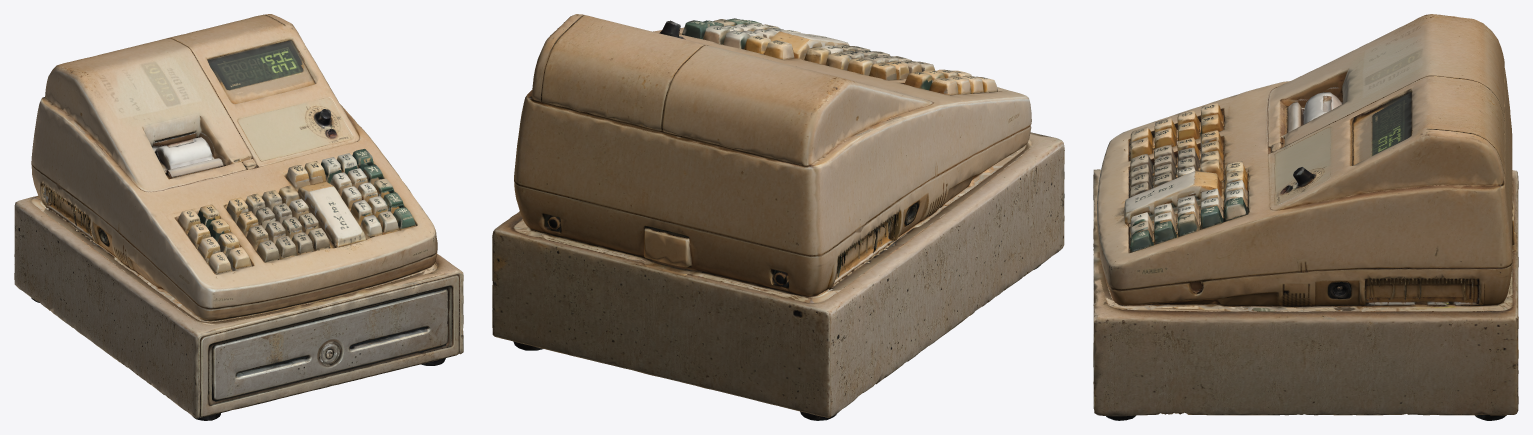
The model's file is CashRegister.glb.
3 views of the same model, side by side, from view 1: azimuth 30°, elevation 25°; view 2: azimuth 150°, elevation 25°; view 3: azimuth 270°, elevation 25° (orthographic). The views are drawn at different scales.
Visible parts, largest first — view 1: texture_mapping; view 2: texture_mapping; view 3: texture_mapping.
Boxes of the visible parts, x1,y1,x2,y2 form: texture_mapping: (14, 14, 463, 420); texture_mapping: (492, 14, 1064, 420); texture_mapping: (1093, 14, 1518, 420).
Size of the model in its own units: 0.8389 by 0.7255 by 1.
1 material, 1 textured.
